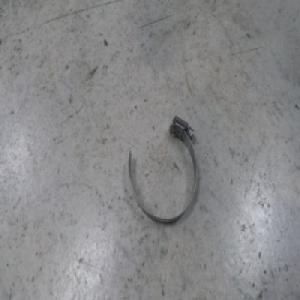AdjustableClamp: (127, 116, 198, 224)
